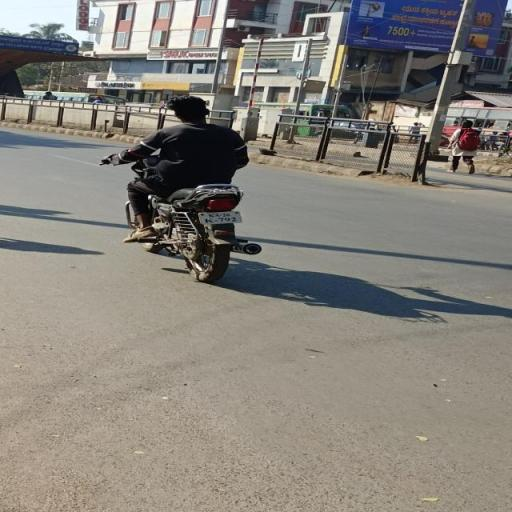bike: (104, 90, 266, 285)
numberplate: (198, 207, 242, 227)
withouthelmet: (171, 97, 207, 120)
